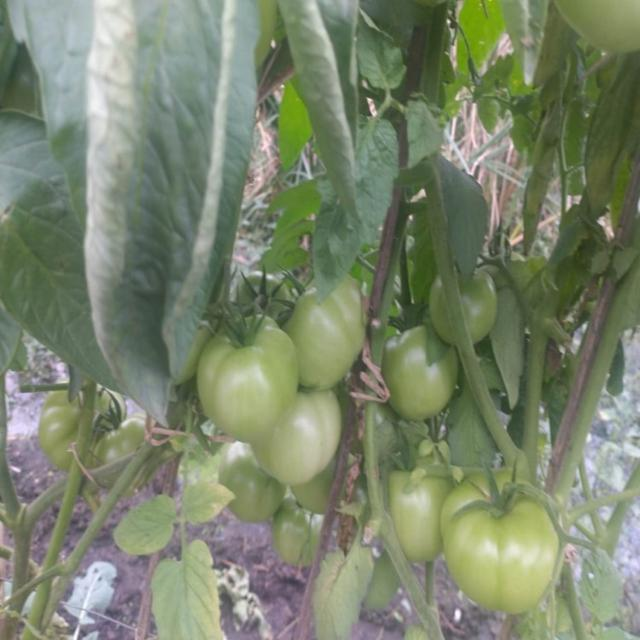tomato: (436, 463, 566, 609), (204, 309, 298, 437), (289, 265, 367, 387), (43, 380, 131, 474), (259, 391, 343, 483), (380, 323, 458, 419), (385, 462, 449, 563), (431, 259, 497, 345), (212, 443, 283, 518), (544, 1, 640, 54), (273, 498, 319, 577), (226, 269, 287, 316), (92, 414, 150, 462)
